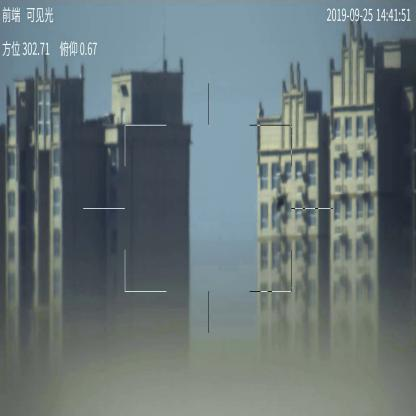uav: (274, 192, 290, 213)
